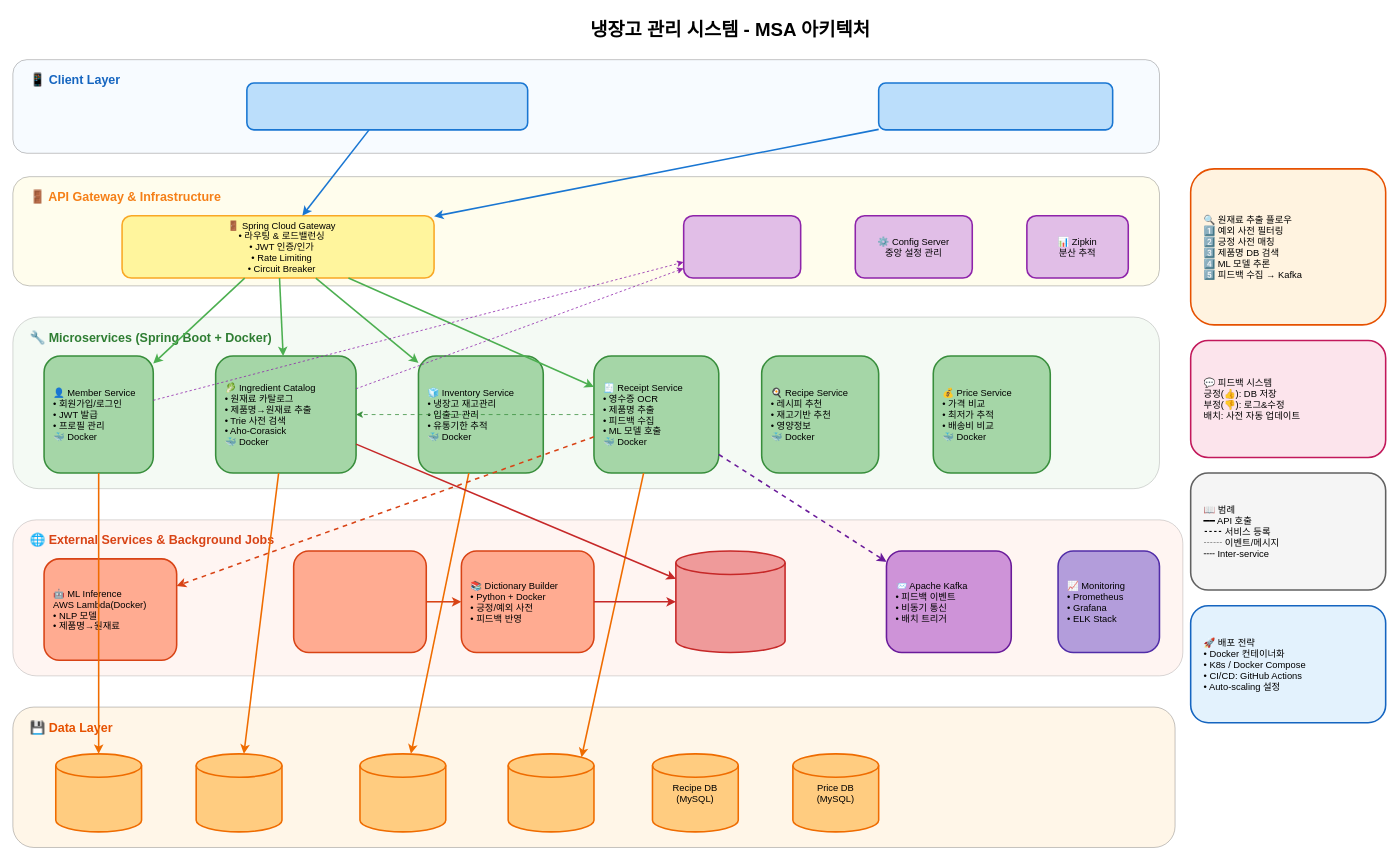
This 1399x860 diagram has some shape labels left out. Here are the shapes that lost their labels. From the top down, the centre of each, then its label:
the point at 387,106: 🌐 Web Client React.js (BackOffice Page)
the point at 995,106: 📱 Mobile App Flutter(Cross Platform)
the point at 741,246: 🔍 Eureka Server 서비스 디스커버리
the point at 359,601: 🕷️ Crawling Service Python + Docker • 쿠팡,컬리,SSG • 카테고리 수집
the point at 730,601: ⚡ Redis Cluster • 긍정 사전 (Set) • 예외 사전 (Set) • 세션 캐시 • 조회 캐시
the point at 98,792: Member DB (MySQL)
the point at 238,792: Ingredient DB(MySQL) 원재료/카테고리
the point at 402,792: Inventory DB (MySQL)
the point at 550,792: Receipt DB (MySQL)
